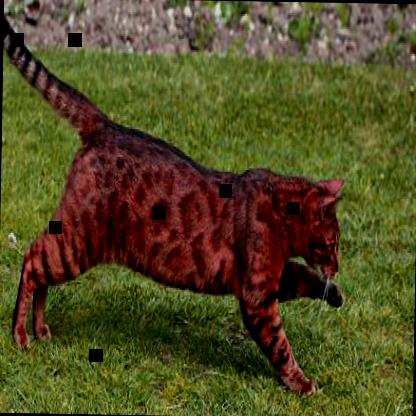cat: (0, 0, 349, 403)
